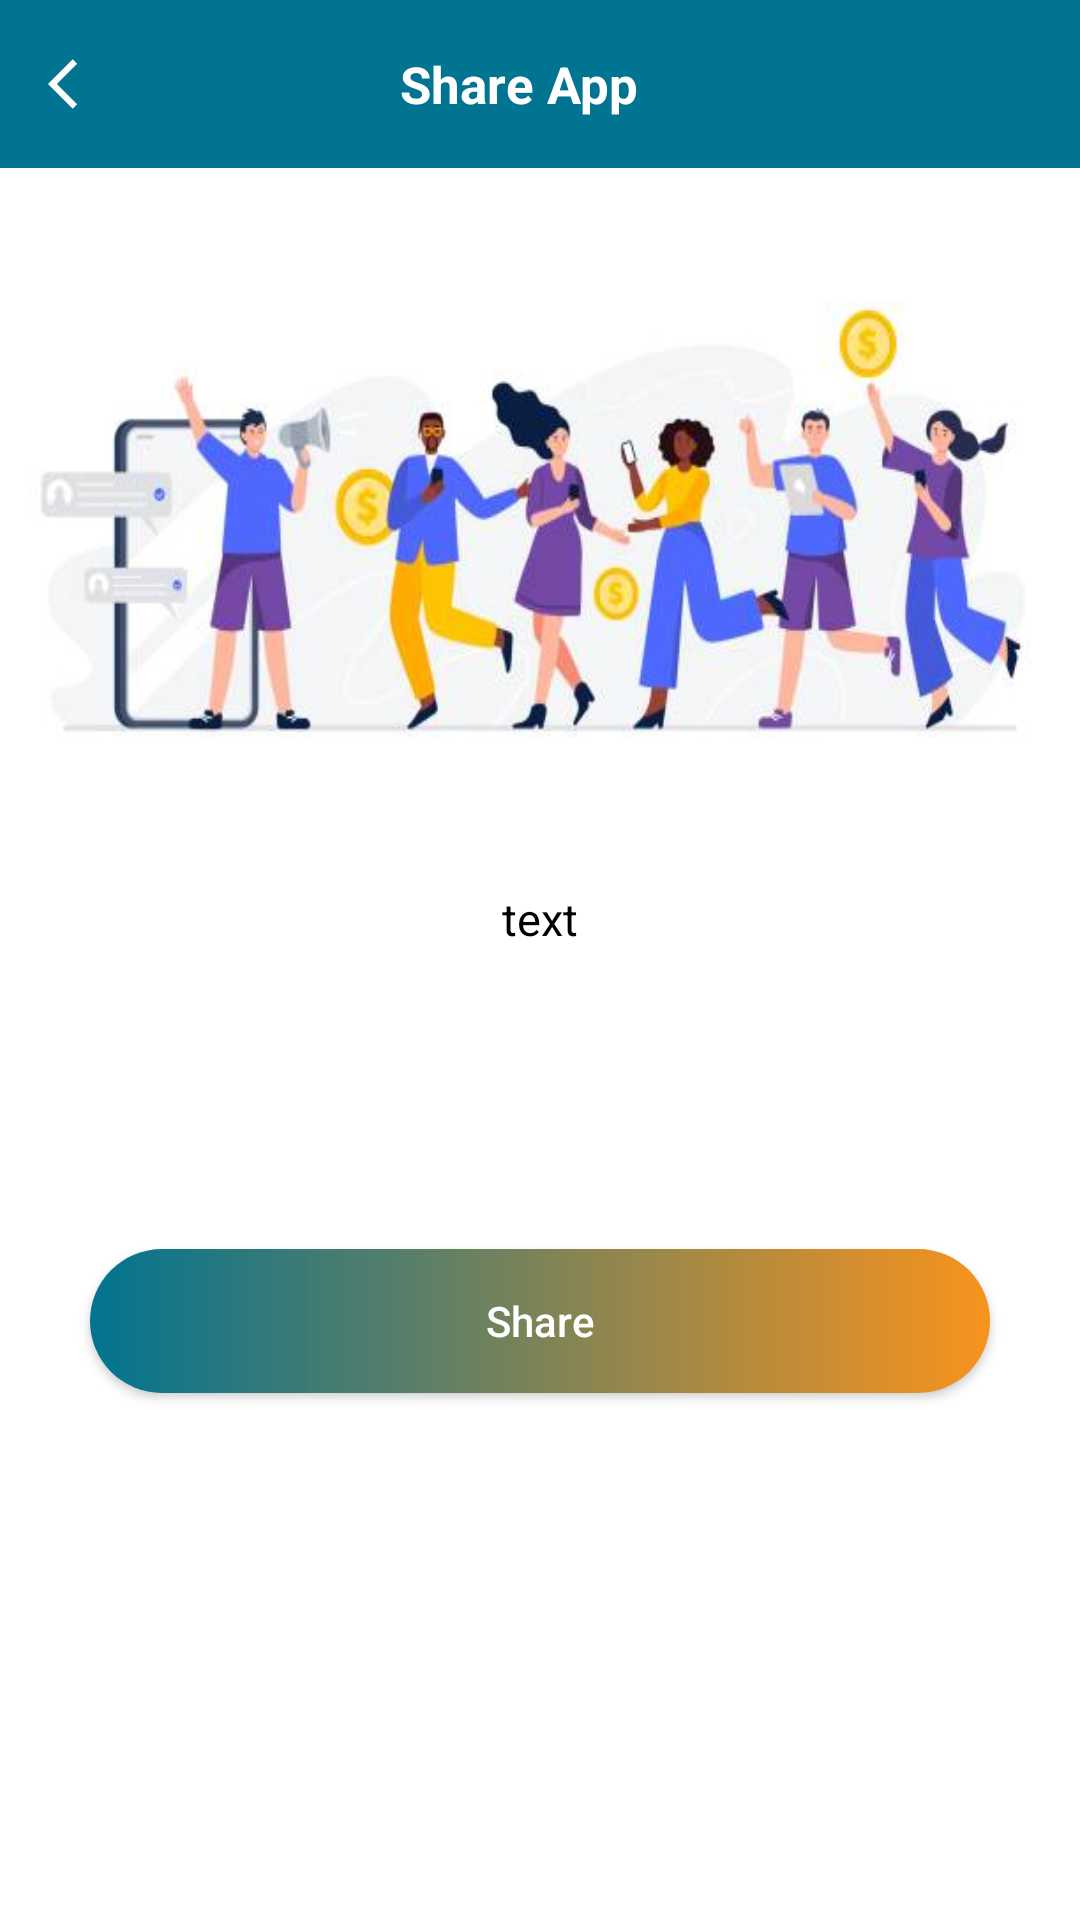

Screen size 1080w x 1920h. Icon name, then its box in pixels as (x1, y1, x2, y2):
arrow back: (48, 59, 77, 109)
